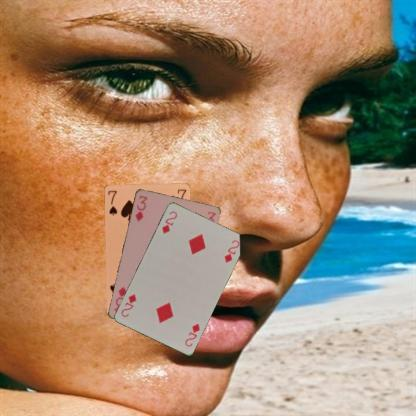2d: (182, 320, 201, 348), (159, 208, 178, 235)
3d: (132, 193, 149, 222)
7s: (105, 188, 118, 216)
